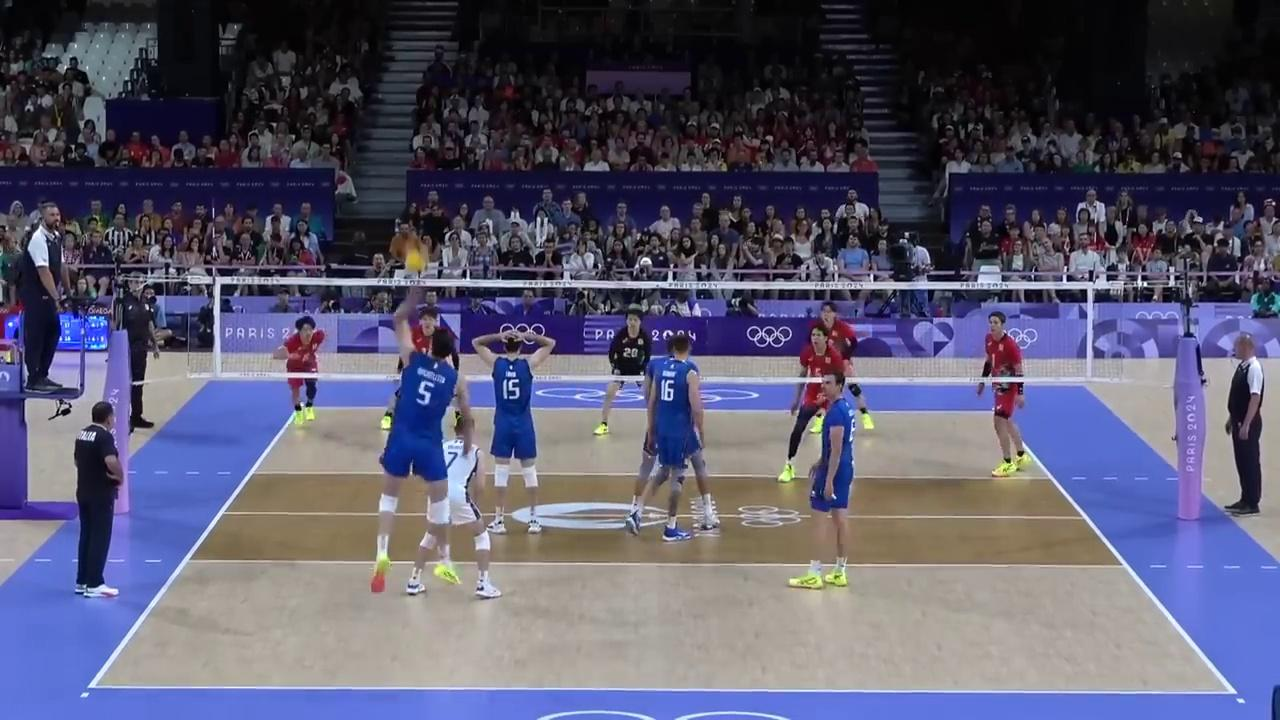ball: (405, 250, 428, 272)
